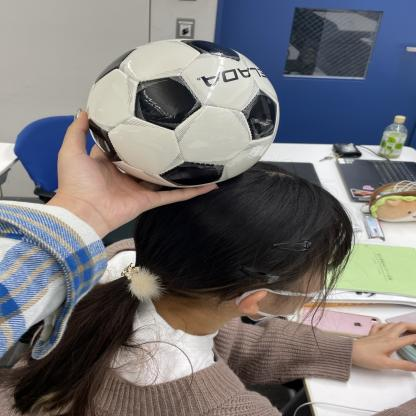ball: (90, 39, 279, 190), (88, 39, 277, 190)
